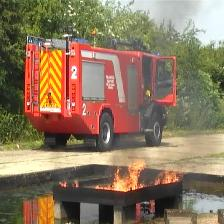fire: (96, 159, 147, 192), (152, 166, 184, 186)
